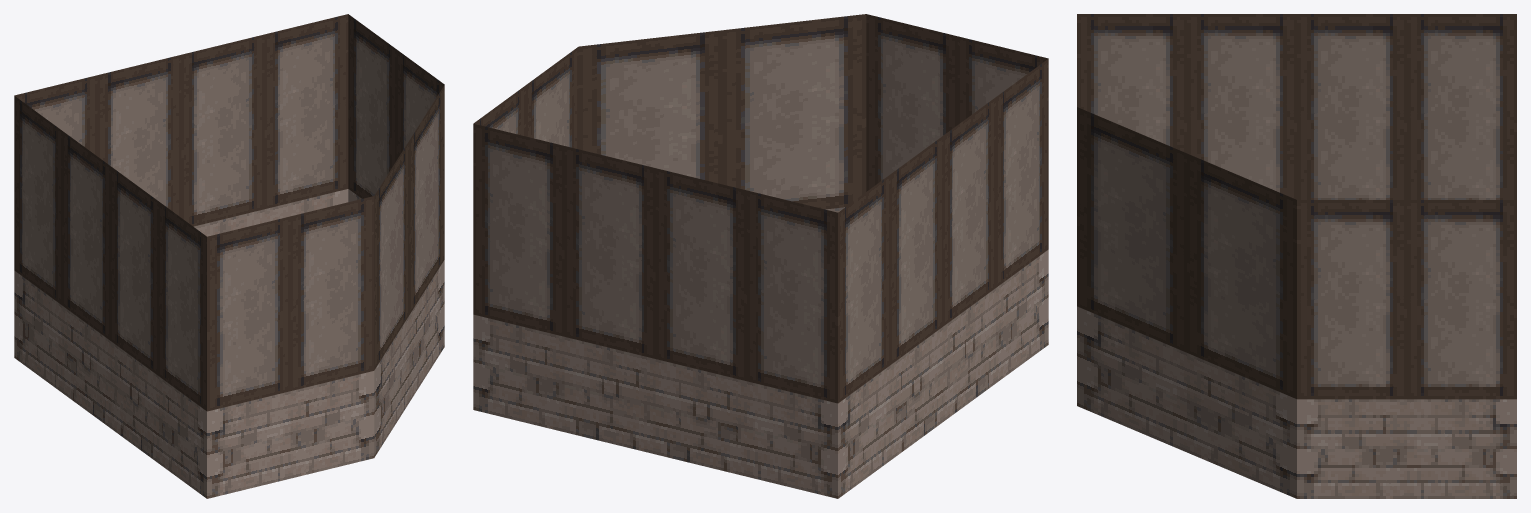
File: plaster_wall_stone_base_cornered.glb
3 views of the same model, side by side, from view 1: azimuth 30°, elevation 25°; view 2: azimuth 150°, elevation 25°; view 3: azimuth 270°, elevation 25° (orthographic). The views are drawn at different scales.
Visible parts, largest first — view 1: plaster_wall_stone_base_cornered; view 2: plaster_wall_stone_base_cornered; view 3: plaster_wall_stone_base_cornered.
Part boxes in pixels (left/top/right/bottom): plaster_wall_stone_base_cornered: left=14, top=14, right=444, bottom=498; plaster_wall_stone_base_cornered: left=473, top=14, right=1048, bottom=498; plaster_wall_stone_base_cornered: left=1077, top=14, right=1516, bottom=498.
Size of the model in its own units: 5 by 3.75 by 5.
1 material, 1 textured.
